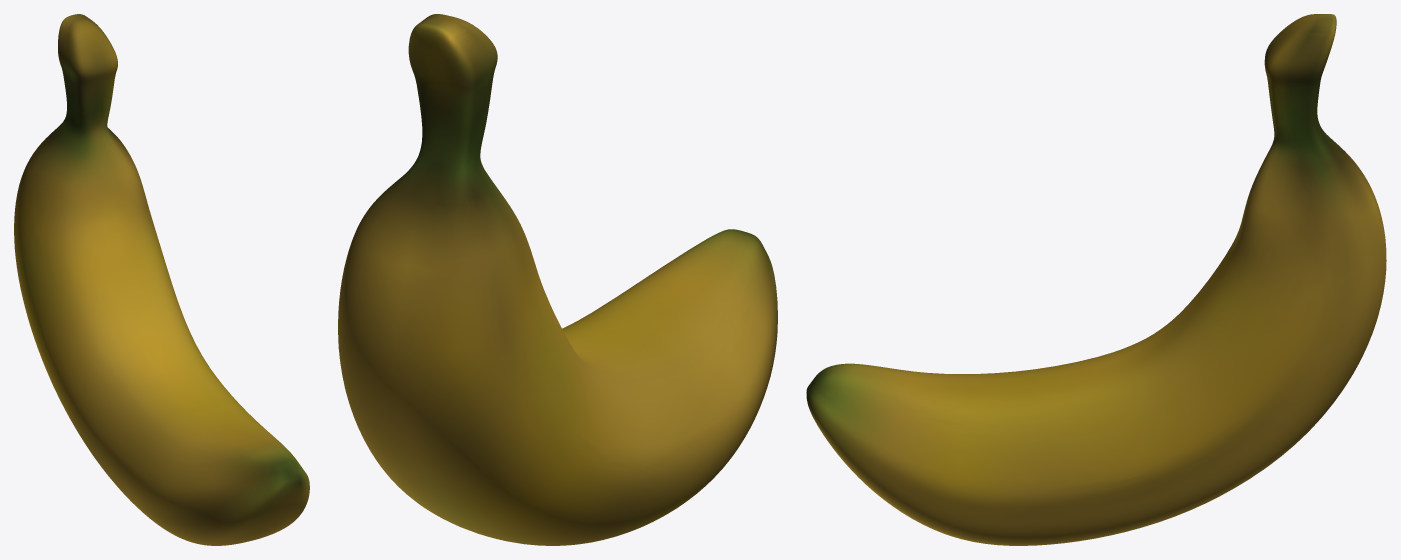
File: banana.glb
3 renders of one model, left to right at view 1: azimuth 30°, elevation 25°; view 2: azimuth 150°, elevation 25°; view 3: azimuth 270°, elevation 25°, orthographic. The views are drawn at different scales.
Parts seen in each view (by area): view 1: 立方体; view 2: 立方体; view 3: 立方体.
Part boxes in pixels (left/top/right/bottom): 立方体: left=14, top=14, right=309, bottom=545; 立方体: left=338, top=14, right=777, bottom=545; 立方体: left=806, top=14, right=1386, bottom=545.
Size of the model in its own units: 1.24 by 3.84 by 3.94.
